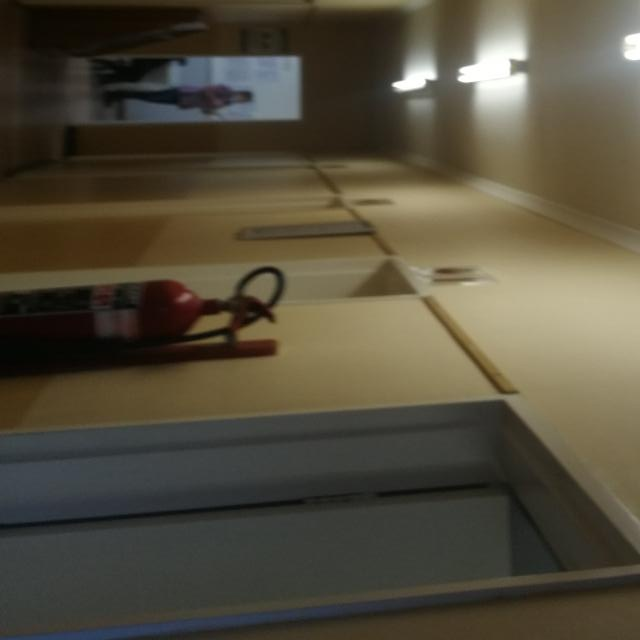fluorescent tube: (433, 49, 536, 102), (594, 0, 640, 104), (388, 68, 437, 100)
